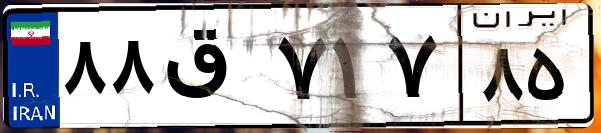1: (330, 28, 385, 110)
5: (525, 38, 570, 115)
7: (270, 28, 330, 110), (385, 28, 445, 110)
8: (57, 26, 110, 100), (475, 38, 525, 113), (110, 28, 158, 98)
ق: (158, 20, 270, 120)
